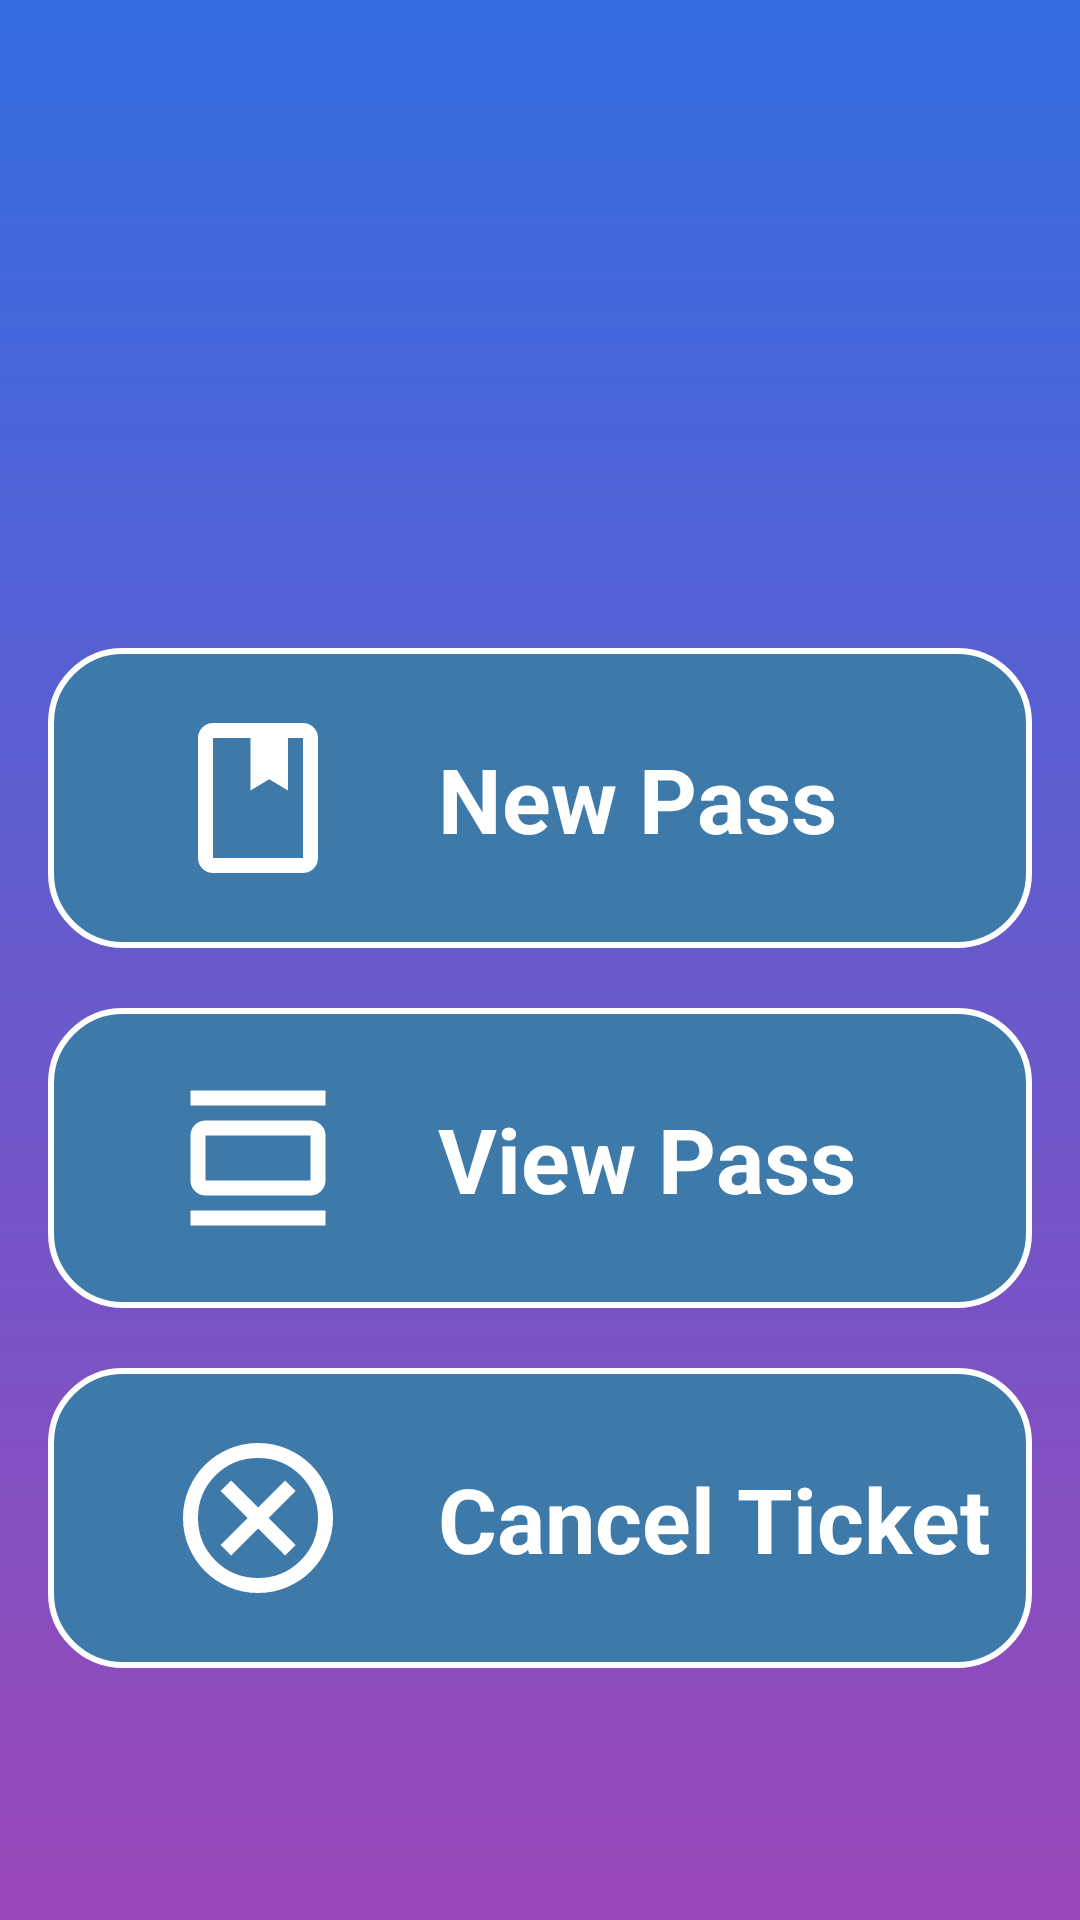

Where to tap for icons on this 1080*1920 app screen, as point (x, y):
calendar view day: point (198, 1128)
